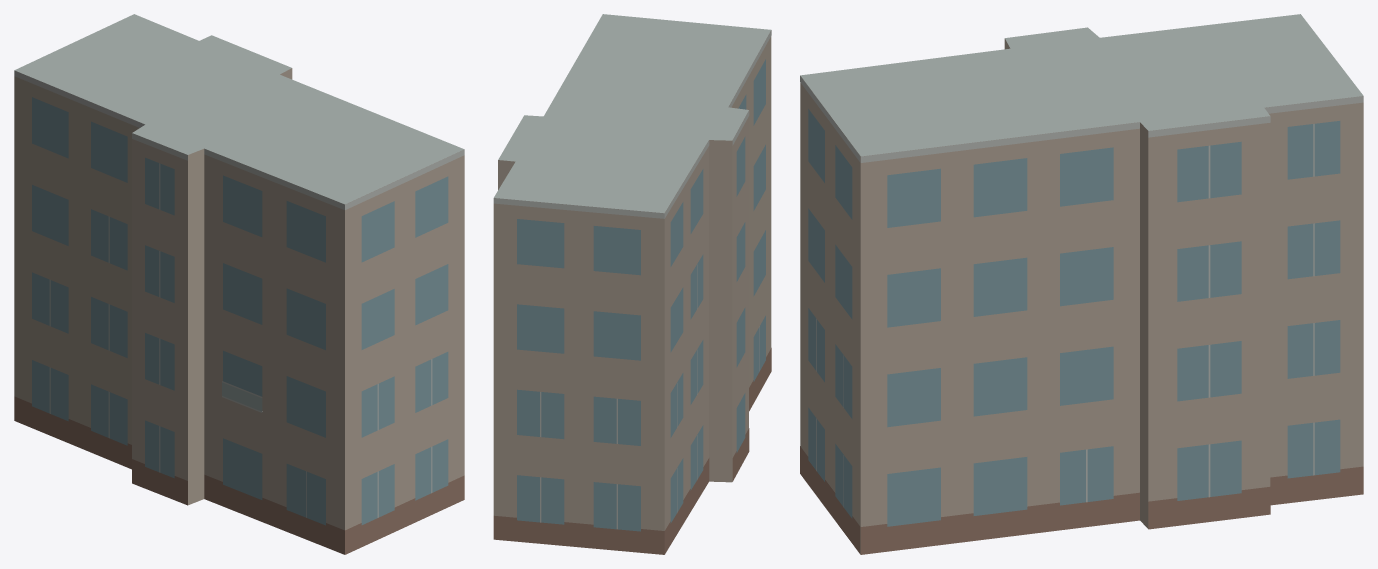
The model's file is survey-upis-32464210.glb.
3 views of the same model, side by side, from view 1: azimuth 30°, elevation 25°; view 2: azimuth 150°, elevation 25°; view 3: azimuth 270°, elevation 25° (orthographic). The views are drawn at different scales.
Visible parts, largest first — view 1: survey-upis-32464210.tmp; view 2: survey-upis-32464210.tmp; view 3: survey-upis-32464210.tmp.
Part boxes in pixels (left/top/right/bottom): survey-upis-32464210.tmp: left=14, top=14, right=464, bottom=554; survey-upis-32464210.tmp: left=493, top=14, right=771, bottom=554; survey-upis-32464210.tmp: left=800, top=14, right=1363, bottom=554.
Size of the model in its own units: 11.29 by 14.7 by 18.86.
